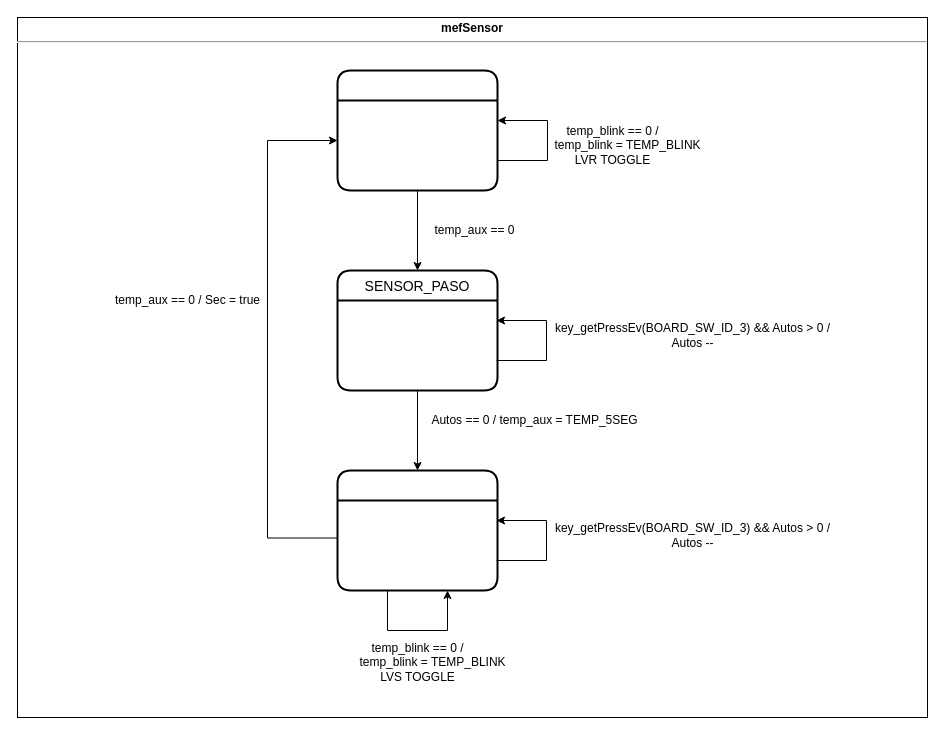
Some shapes in this 945 by 735 pixel diagram are drawn without their labels. Each missing label, with the box of its shape:
SENSOR_AVISO: (336, 69, 498, 191)
SENSOR_CORTE: (336, 469, 498, 591)
